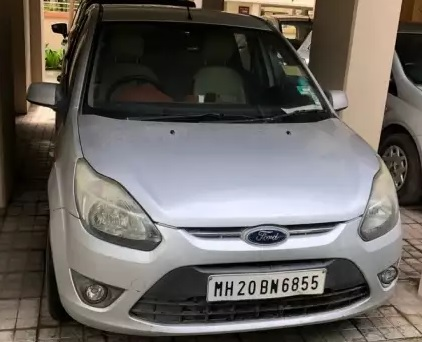licenseplate: (207, 269, 330, 299)
